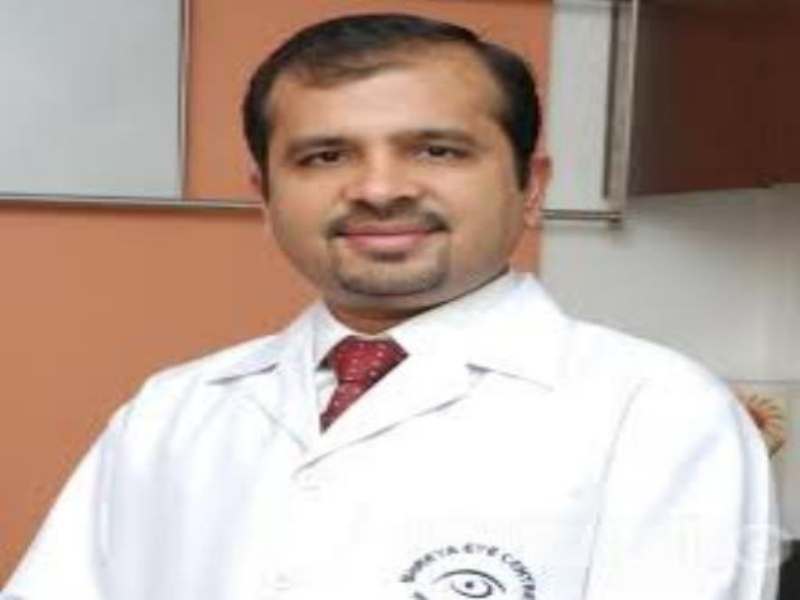TsisyArotava: (229, 8, 569, 337)
